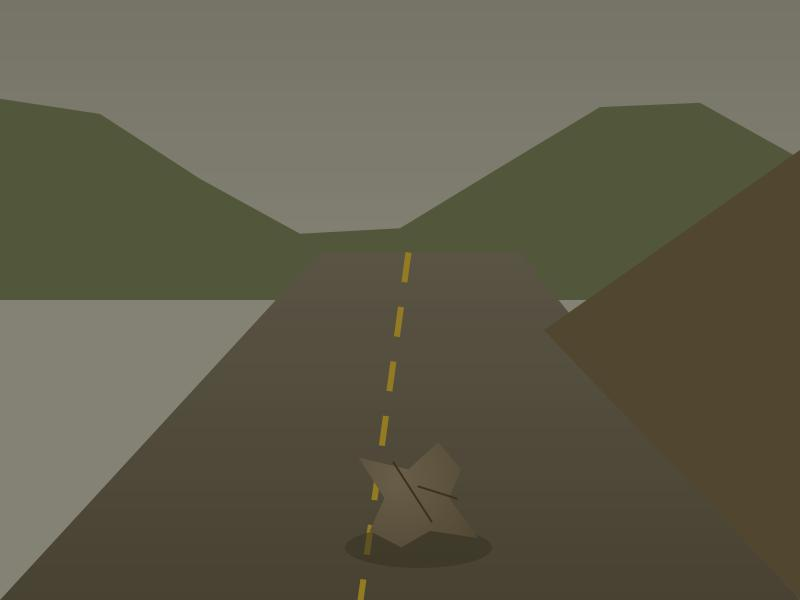ROAD_OBSTACLE: (355, 439, 482, 557)
